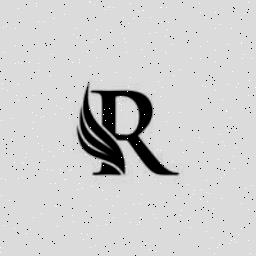o: (76, 79, 180, 179)
